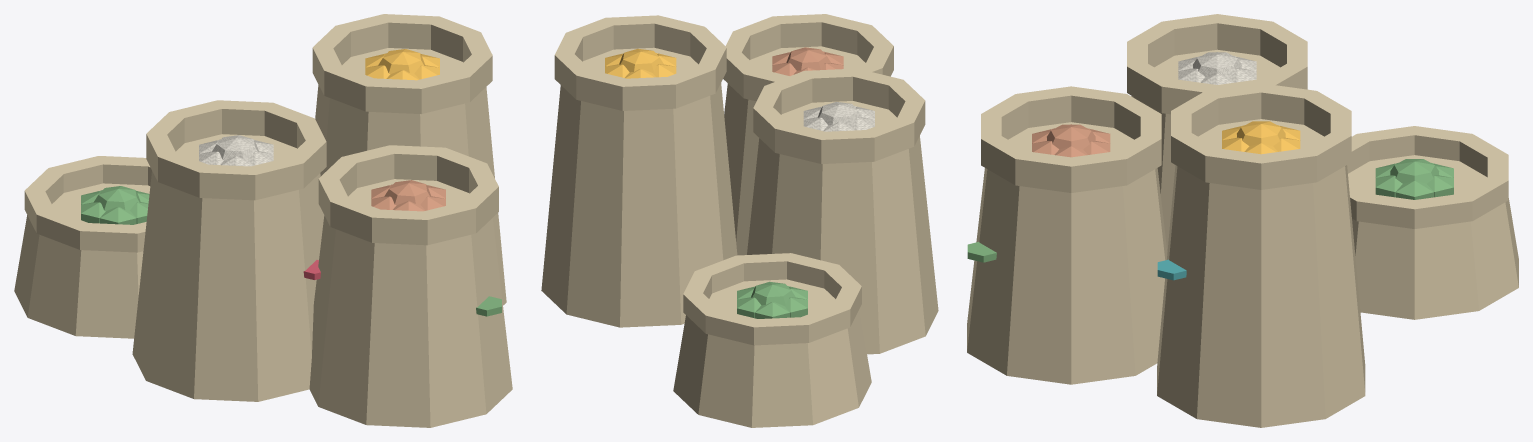
The model's file is indian-bazaar-street-and-temple-jute-sack-stack-3e745a20__36549.glb.
3 views of the same model, side by side, from view 1: azimuth 30°, elevation 25°; view 2: azimuth 150°, elevation 25°; view 3: azimuth 270°, elevation 25° (orthographic). The views are drawn at different scales.
Parts seen in each view (by area): view 1: jute-sack-stack-jute, jute-sack-stack-leaf, jute-sack-stack-terracotta, jute-sack-stack-plaster, jute-sack-stack-saffron; view 2: jute-sack-stack-jute, jute-sack-stack-leaf, jute-sack-stack-saffron, jute-sack-stack-plaster, jute-sack-stack-terracotta; view 3: jute-sack-stack-jute, jute-sack-stack-leaf, jute-sack-stack-terracotta, jute-sack-stack-saffron, jute-sack-stack-plaster.
Part boxes in pixels (x1,y1,x2,y2): jute-sack-stack-jute: [14, 14, 512, 427]; jute-sack-stack-leaf: [81, 186, 501, 316]; jute-sack-stack-terracotta: [371, 180, 445, 211]; jute-sack-stack-plaster: [199, 135, 273, 166]; jute-sack-stack-saffron: [365, 49, 439, 80]; jute-sack-stack-jute: [541, 14, 938, 427]; jute-sack-stack-leaf: [737, 281, 807, 318]; jute-sack-stack-saffron: [605, 48, 676, 78]; jute-sack-stack-plaster: [803, 102, 874, 131]; jute-sack-stack-terracotta: [772, 47, 843, 75]; jute-sack-stack-jute: [967, 14, 1518, 427]; jute-sack-stack-leaf: [967, 159, 1453, 262]; jute-sack-stack-terracotta: [1032, 124, 1110, 157]; jute-sack-stack-saffron: [1222, 121, 1300, 154]; jute-sack-stack-plaster: [1178, 52, 1256, 84].
Bounding box in the file's own units: 1.3 × 0.78 × 1.51.
7 materials, 1 textured.
